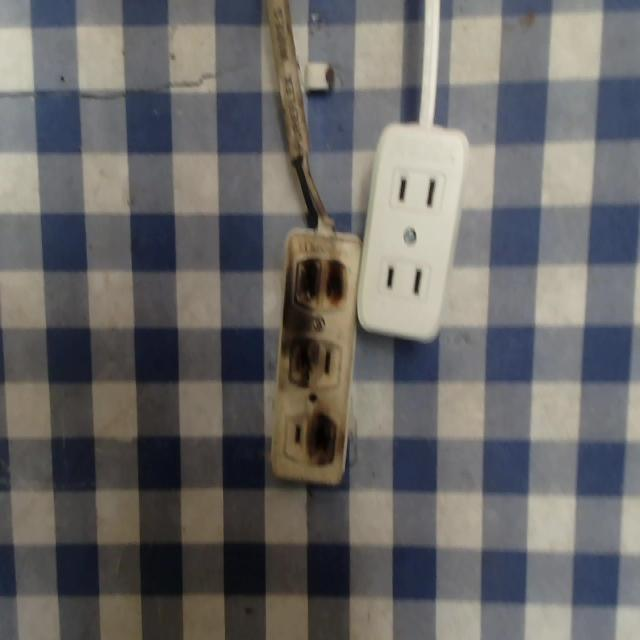-: (289, 252, 351, 311), (279, 337, 318, 391), (306, 412, 342, 469)
